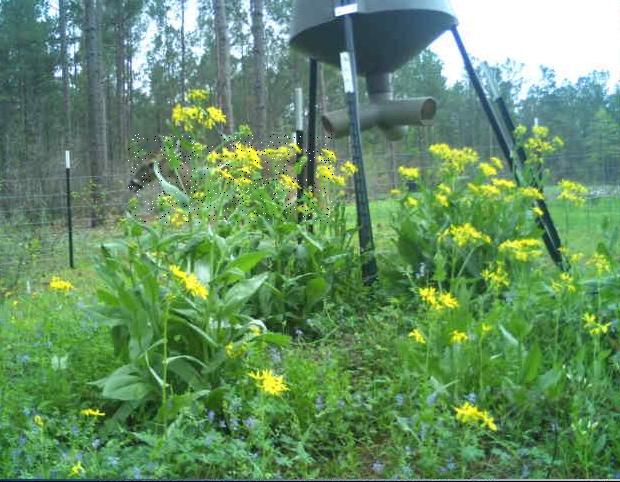Deer: (128, 135, 334, 224)
